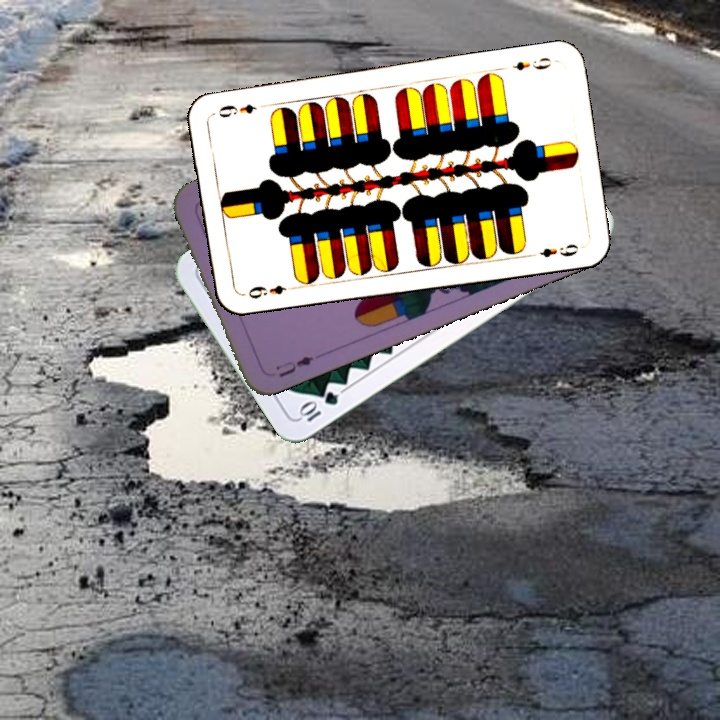E9: (244, 280, 297, 301), (509, 53, 558, 74)
EU: (271, 352, 317, 380)
G10: (295, 387, 341, 425)
